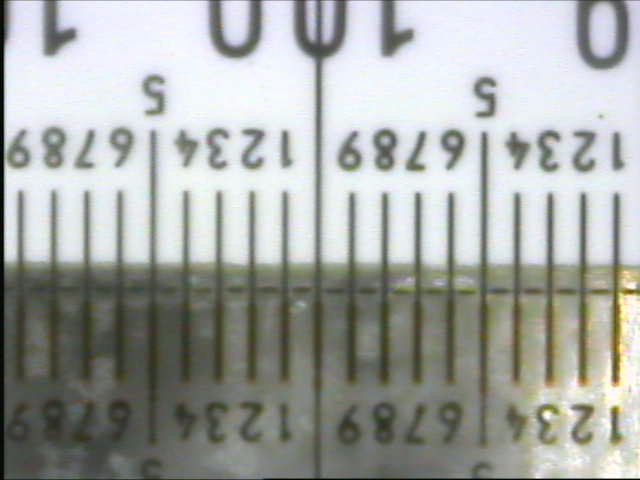line: (147, 128, 160, 447), (312, 63, 322, 470), (47, 185, 62, 384), (411, 189, 425, 385), (212, 188, 226, 384), (245, 185, 258, 385), (278, 185, 291, 383), (480, 128, 488, 446), (113, 189, 126, 384), (379, 188, 391, 383), (346, 188, 357, 386), (180, 188, 191, 385), (82, 188, 93, 385), (446, 189, 457, 384), (611, 190, 621, 390), (16, 188, 26, 385), (578, 189, 587, 388), (512, 189, 521, 382), (546, 189, 554, 385)
